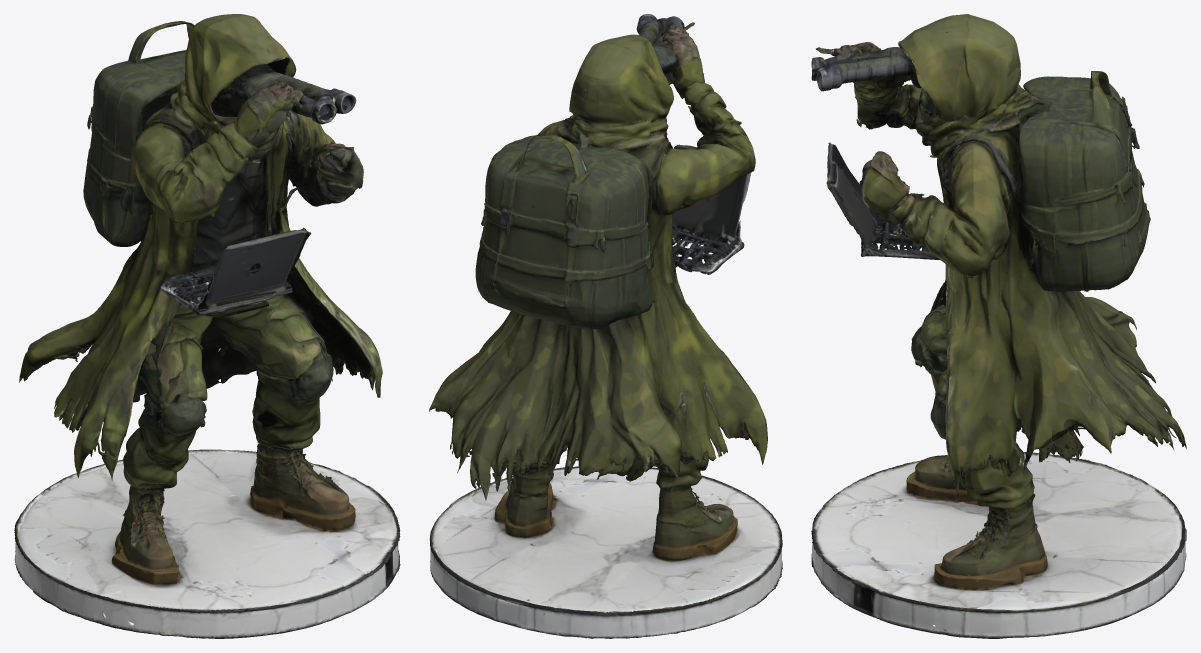
File: Surveillance_Operativ.glb
3 views of the same model, side by side, from view 1: azimuth 30°, elevation 25°; view 2: azimuth 150°, elevation 25°; view 3: azimuth 270°, elevation 25° (orthographic). The views are drawn at different scales.
Bounding box in the file's own units: 1.25 × 1.97 × 1.24.
Materials: 1 (1 with a texture image).
